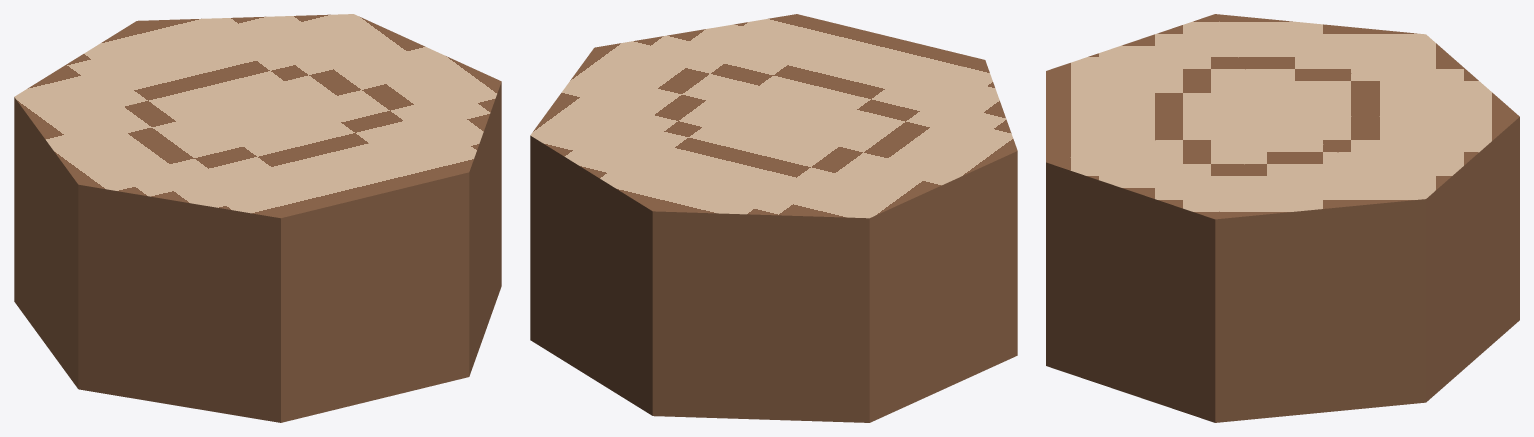
Rendered from tree stump.gltf.
The picture shows the model from 3 angles, left to right: view 1: azimuth 30°, elevation 25°; view 2: azimuth 150°, elevation 25°; view 3: azimuth 270°, elevation 25°; orthographic projection.
Visible parts, largest first — view 1: cylinder; view 2: cylinder; view 3: cylinder.
Part boxes in pixels (x1,y1,x2,y2): cylinder: (14, 14, 501, 422); cylinder: (530, 14, 1017, 422); cylinder: (1046, 14, 1519, 422).
Size of the model in its own units: 1.08 by 0.5 by 1.05.
1 material, 1 textured.
